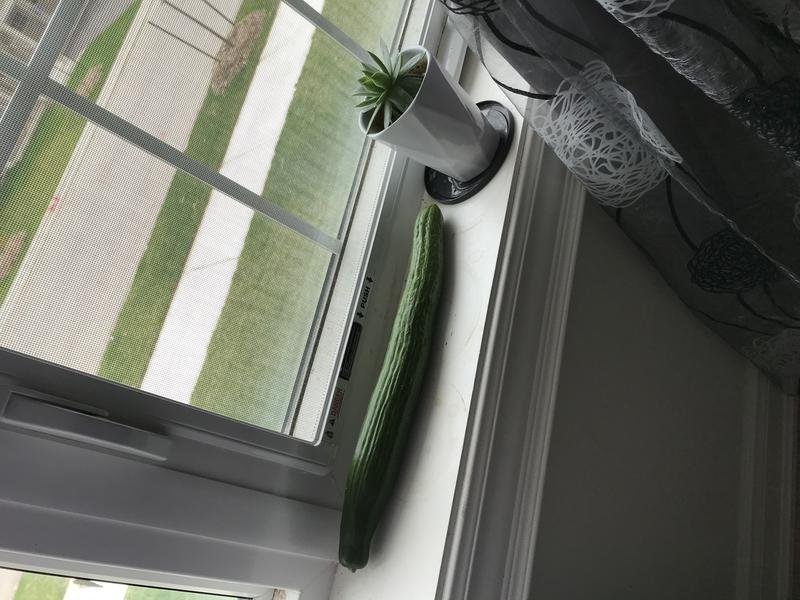cucumber: (329, 200, 454, 585)
